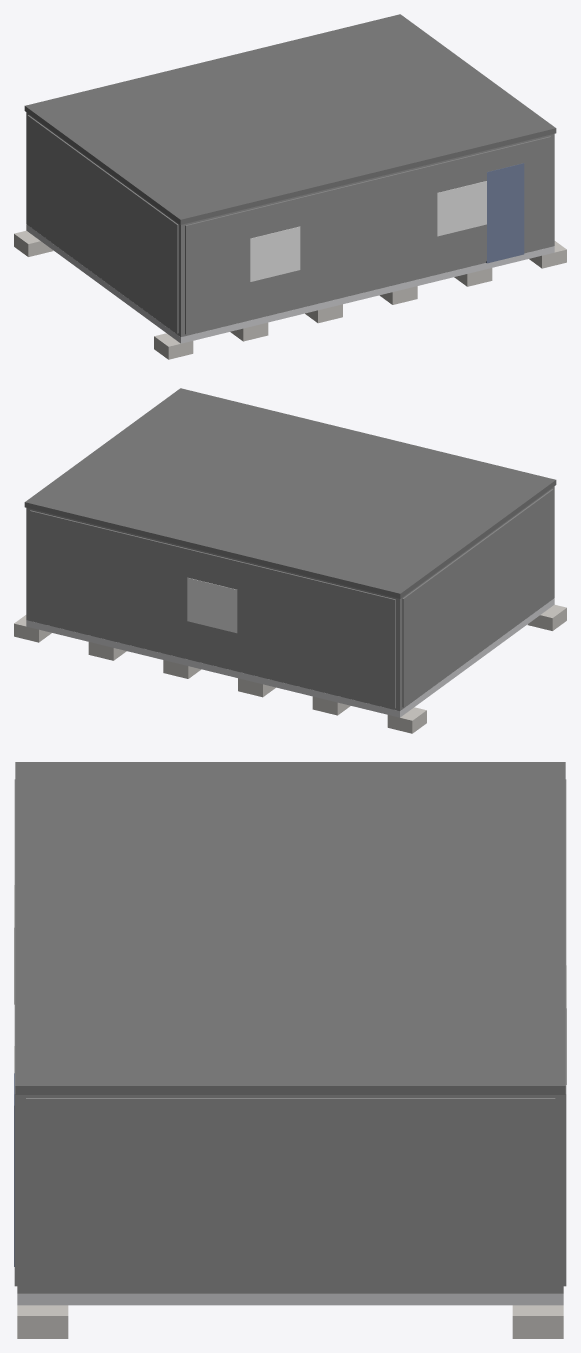
The model's file is Studio-30-Base-AntiqueWallGrey-LOD1.glb.
3 views of the same model, one above another, from view 1: azimuth 30°, elevation 25°; view 2: azimuth 150°, elevation 25°; view 3: azimuth 270°, elevation 25° (orthographic). The views are drawn at different scales.
Visible parts, largest first — view 1: RoofMain, ExteriorPanelsStandard, WindowsStandard, BaseFrame, FoundationBlocks, EntryDoor, ExteriorShell; view 2: RoofMain, ExteriorPanelsStandard, BaseFrame, FoundationBlocks, ExteriorShell, WindowsStandard; view 3: RoofMain, ExteriorPanelsStandard, BaseFrame, ExteriorShell, FoundationBlocks.
Boxes of the visible parts, box(x1,y1,x2,y2) form: RoofMain: box(24, 14, 556, 224); ExteriorPanelsStandard: box(27, 115, 551, 334); WindowsStandard: box(250, 181, 486, 281); BaseFrame: box(26, 224, 554, 343); FoundationBlocks: box(14, 230, 566, 359); EntryDoor: box(486, 163, 524, 263); ExteriorShell: box(26, 112, 554, 336); RoofMain: box(24, 388, 556, 598); ExteriorPanelsStandard: box(30, 489, 553, 708); BaseFrame: box(26, 598, 554, 717); FoundationBlocks: box(14, 604, 566, 733); ExteriorShell: box(26, 486, 554, 710); WindowsStandard: box(187, 577, 237, 633); RoofMain: box(15, 762, 565, 1094); ExteriorPanelsStandard: box(14, 779, 566, 1290); BaseFrame: box(17, 1293, 563, 1305); ExteriorShell: box(17, 1095, 563, 1293); FoundationBlocks: box(17, 1305, 563, 1338).
Size of the model in its own units: 9.6 by 3.17 by 6.53.
